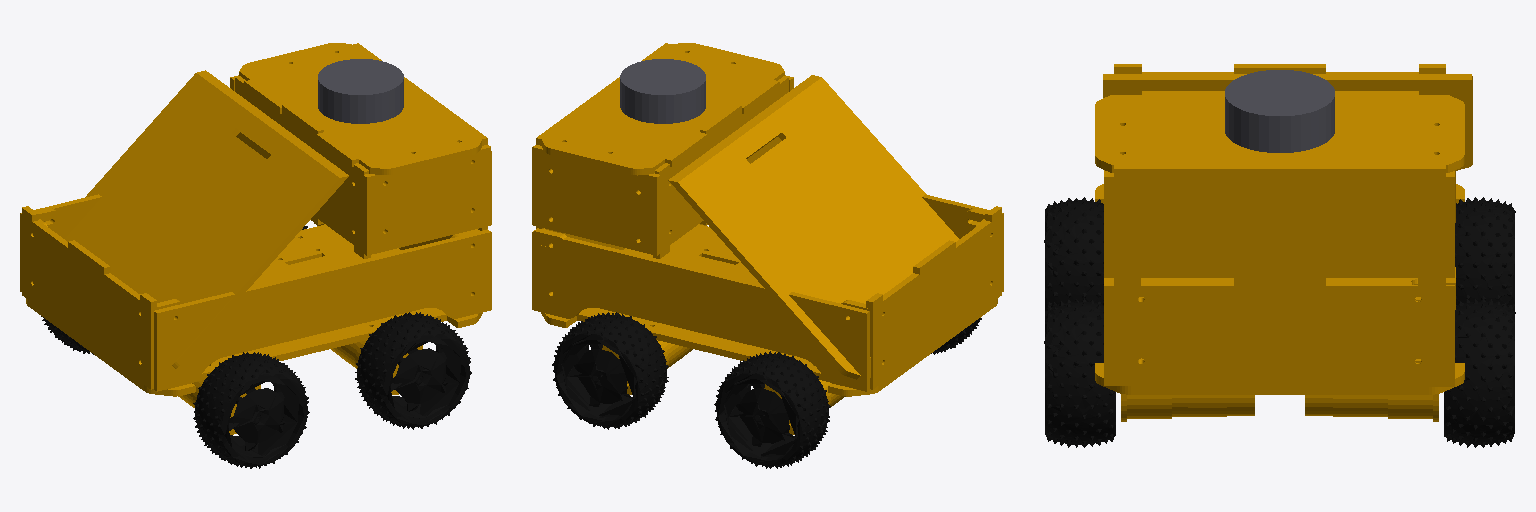
URDF robot description (cramped_robot):
<?xml version="1.0" ?>
<!-- =================================================================================== -->
<!-- |    This document was autogenerated by xacro from urdf/cramped_robot.urdf.xacro  | -->
<!-- |    EDITING THIS FILE BY HAND IS NOT RECOMMENDED                                 | -->
<!-- =================================================================================== -->
<!--
  cramped_robot — 4-wheel skid-steer mobile robot
  Generated from Main_Assembly.step (Onshape, STEP AP242) on 2026-09-23.
  Frame conventions (ROS REP-103): x forward, y left, z up.
  CAD -> URDF mapping: x_urdf = -y_cad, y_urdf = x_cad, z_urdf = z_cad  (the CAD front is -Y).
  base_link origin = centre of the BOTTOM face of the bottom chassis plate (the CAD origin).
  base_footprint sits on the ground plane, 0.0604 m below base_link.
  Design change vs. the STEP: the inclined "Middle Plane" is cut off at roof height (z = 0.135 m in base_link)
  so it cannot protrude into the lidar's field of view. Trim the physical plate the same way, or set
  TRIM_MIDDLE_PLANE_TO_ROOF = False in scripts/build_from_step.py to restore it.
  Links: base_footprint, base_link (chassis + brackets + 4 motor mounts + 4 gearmotors, rigid),
         4 wheel links (continuous joints), lidar_link (front-cabin roof), imu_link (lower-cabin floor).
  Mesh units: metres (pre-scaled at export). Visual meshes come straight from the STEP solids;
  collision uses analytic primitives derived from the same solids' bounding boxes.
  Mass: total_mass (2.0 kg, user estimate) is distributed in proportion to the CAD-derived link masses.
  CAD-derived masses (volume x density; inertia tensors scale with mass):
    chassis plates (5 mm)                     : acrylic, 1180 kg/m3   -> 1.179 kg incl. brackets
    L-brackets / motor mounts                 : aluminium, 2700 kg/m3
    4 x 37 mm gearmotor                        : ~0.194 kg each (typical 37D gearmotor)
    wheel (rubber tyre + ABS hub) + brass coupling + steel D-shaft : ~0.093 kg
  Motor limits assume a 37D 12 V gearmotor, ~100 rpm no-load, ~1 N·m stall at the wheel.
-->
<robot name="cramped_robot">
  <!-- m, base_link height above ground -->
  <!-- m, centre of the lower-cabin floor (bottom-plate top face) -->
  <!-- ============================== materials ============================== -->
  <material name="chassis_yellow">
    <color rgba="0.823 0.597 0.018 1.0"/>
  </material>
  <material name="tyre_black">
    <color rgba="0.10 0.10 0.10 1.0"/>
  </material>
  <material name="sensor_grey">
    <color rgba="0.35 0.35 0.38 1.0"/>
  </material>
  <!-- ============================== base ============================== -->
  <link name="base_footprint"/>
  <joint name="base_footprint_joint" type="fixed">
    <parent link="base_footprint"/>
    <child link="base_link"/>
    <origin rpy="0 0 0" xyz="0 0 0.0604"/>
  </joint>
  <link name="base_link">
    <visual>
      <origin rpy="0 0 0" xyz="0 0 0"/>
      <geometry>
        <mesh filename="package://cramped_robot_description/meshes/visual/base_link.stl"/>
      </geometry>
      <material name="chassis_yellow"/>
    </visual>
    <collision>
      <!-- upper side panel002 -->
      <origin rpy="0 0 0" xyz="0.08494 -0.09253 0.10002"/>
      <geometry>
        <box size="0.1 0.00507 0.06"/>
      </geometry>
    </collision>
    <collision>
      <!-- upper side panel002 -->
      <origin rpy="0 0 0" xyz="0.08506 0.09247 0.09998"/>
      <geometry>
        <box size="0.1 0.00507 0.06"/>
      </geometry>
    </collision>
    <collision>
      <!-- Front support 001 -->
      <origin rpy="0 0 0" xyz="0.1325 -0.00007 0.06751"/>
      <geometry>
        <box size="0.00511 0.18003 0.13502"/>
      </geometry>
    </collision>
    <collision>
      <!-- top plane -->
      <origin rpy="0 0 0" xyz="0.085 -0.00002 0.1325"/>
      <geometry>
        <box size="0.10009 0.20004 0.00504"/>
      </geometry>
    </collision>
    <collision>
      <!-- Rear Support002 -->
      <origin rpy="0 0 0" xyz="-0.1325 0.00009 0.03601"/>
      <geometry>
        <box size="0.00511 0.18002 0.07202"/>
      </geometry>
    </collision>
    <collision>
      <!-- Bottom chassis001 -->
      <origin rpy="0 0 0" xyz="-0 0 0.0025"/>
      <geometry>
        <box size="0.2701 0.20014 0.00504"/>
      </geometry>
    </collision>
    <collision>
      <!-- Rear Support002 -->
      <origin rpy="0 0 0" xyz="0.0385 -0 0.10099"/>
      <geometry>
        <box size="0.00511 0.18002 0.07202"/>
      </geometry>
    </collision>
    <collision>
      <!-- Lower Side Panel -->
      <origin rpy="0 0 0" xyz="0.00094 -0.09249 0.03502"/>
      <geometry>
        <box size="0.268 0.00518 0.06"/>
      </geometry>
    </collision>
    <collision>
      <!-- Lower Side Panel -->
      <origin rpy="0 0 0" xyz="0.00106 0.09251 0.03498"/>
      <geometry>
        <box size="0.268 0.00518 0.06"/>
      </geometry>
    </collision>
    <collision>
      <!-- Middle Plane (inclined plate) -->
      <origin rpy="0 -0.69814 0" xyz="-0.05609 0.00427 0.07373"/>
      <geometry>
        <box size="0.19565 0.20006 0.00492"/>
      </geometry>
    </collision>
    <collision>
      <!-- front_left motor mount -->
      <origin rpy="0 0 0" xyz="0.06501 0.0644 -0.0235"/>
      <geometry>
        <box size="0.04032 0.04337 0.04698"/>
      </geometry>
    </collision>
    <collision>
      <!-- front_left gearmotor -->
      <origin rpy="0 0 0" xyz="0.06504 0.04812 -0.02681"/>
      <geometry>
        <box size="0.03701 0.06902 0.03701"/>
      </geometry>
    </collision>
    <collision>
      <!-- front_right motor mount -->
      <origin rpy="0 0 0" xyz="0.06499 -0.06449 -0.02347"/>
      <geometry>
        <box size="0.04032 0.04338 0.04696"/>
      </geometry>
    </collision>
    <collision>
      <!-- front_right gearmotor -->
      <origin rpy="0 0 0" xyz="0.06496 -0.04822 -0.02678"/>
      <geometry>
        <box size="0.03701 0.06902 0.03701"/>
      </geometry>
    </collision>
    <collision>
      <!-- rear_left motor mount -->
      <origin rpy="0 0 0" xyz="-0.06499 0.06449 -0.0235"/>
      <geometry>
        <box size="0.04032 0.04337 0.04698"/>
      </geometry>
    </collision>
    <collision>
      <!-- rear_left gearmotor -->
      <origin rpy="0 0 0" xyz="-0.06496 0.04821 -0.02681"/>
      <geometry>
        <box size="0.03701 0.06902 0.03701"/>
      </geometry>
    </collision>
    <collision>
      <!-- rear_right motor mount -->
      <origin rpy="0 0 0" xyz="-0.06501 -0.06441 -0.02347"/>
      <geometry>
        <box size="0.04032 0.04338 0.04696"/>
      </geometry>
    </collision>
    <collision>
      <!-- rear_right gearmotor -->
      <origin rpy="0 0 0" xyz="-0.06504 -0.04814 -0.02678"/>
      <geometry>
        <box size="0.03701 0.06902 0.03701"/>
      </geometry>
    </collision>
    <!-- inertia given per kg (from CAD geometry, uniform density per part); scales with the chosen mass -->
    <inertial>
      <origin rpy="0 0 0" xyz="0.006922 0.000498 0.021751"/>
      <mass value="1.5763841029175285"/>
      <inertia ixx="0.01050024721801057" ixy="4.500576613829544e-05" ixz="-0.001594875088444751" iyy="0.01508367858028946" iyz="-4.097022283482657e-05" izz="0.016545081226740185"/>
    </inertial>
  </link>
  <link name="front_left_wheel_link">
    <visual>
      <origin rpy="0 0 0" xyz="0 0 0"/>
      <geometry>
        <mesh filename="package://cramped_robot_description/meshes/visual/wheel.stl"/>
      </geometry>
      <material name="tyre_black"/>
    </visual>
    <collision>
      <origin rpy="1.570796326794895 0 0" xyz="0 0 0"/>
      <geometry>
        <cylinder length="0.0384" radius="0.0406"/>
      </geometry>
    </collision>
    <!-- inertia given per kg (from CAD geometry, uniform density per part); scales with the chosen mass -->
    <inertial>
      <origin rpy="0 0 0" xyz="-7e-06 2.7e-05 1e-06"/>
      <mass value="0.07144498047323686"/>
      <inertia ixx="3.908469101768896e-05" ixy="6.430048242591317e-09" ixz="7.144498047323686e-10" iyy="6.371249023661843e-05" iyz="-5.001148633126581e-09" izz="3.9081833218470024e-05"/>
    </inertial>
  </link>
  <joint name="front_left_wheel_joint" type="continuous">
    <parent link="base_link"/>
    <child link="front_left_wheel_link"/>
    <origin rpy="0 0 0" xyz="0.065 0.108 -0.0198"/>
    <axis xyz="0 1 0"/>
    <limit effort="1.0" velocity="10.5"/>
    <dynamics damping="0.01" friction="0.05"/>
  </joint>
  <link name="front_right_wheel_link">
    <visual>
      <origin rpy="0 0 3.14159265358979" xyz="0 0 0"/>
      <geometry>
        <mesh filename="package://cramped_robot_description/meshes/visual/wheel.stl"/>
      </geometry>
      <material name="tyre_black"/>
    </visual>
    <collision>
      <origin rpy="1.570796326794895 0 0" xyz="0 0 0"/>
      <geometry>
        <cylinder length="0.0384" radius="0.0406"/>
      </geometry>
    </collision>
    <!-- inertia given per kg (from CAD geometry, uniform density per part); scales with the chosen mass -->
    <inertial>
      <origin rpy="0 0 0" xyz="7e-06 -2.7e-05 1e-06"/>
      <mass value="0.07144498047323686"/>
      <inertia ixx="3.908469101768896e-05" ixy="6.430048242591317e-09" ixz="-7.144498047323686e-10" iyy="6.371249023661843e-05" iyz="5.001148633126581e-09" izz="3.9081833218470024e-05"/>
    </inertial>
  </link>
  <joint name="front_right_wheel_joint" type="continuous">
    <parent link="base_link"/>
    <child link="front_right_wheel_link"/>
    <origin rpy="0 0 0" xyz="0.065 -0.108 -0.0198"/>
    <axis xyz="0 1 0"/>
    <limit effort="1.0" velocity="10.5"/>
    <dynamics damping="0.01" friction="0.05"/>
  </joint>
  <link name="rear_left_wheel_link">
    <visual>
      <origin rpy="0 0 0" xyz="0 0 0"/>
      <geometry>
        <mesh filename="package://cramped_robot_description/meshes/visual/wheel.stl"/>
      </geometry>
      <material name="tyre_black"/>
    </visual>
    <collision>
      <origin rpy="1.570796326794895 0 0" xyz="0 0 0"/>
      <geometry>
        <cylinder length="0.0384" radius="0.0406"/>
      </geometry>
    </collision>
    <!-- inertia given per kg (from CAD geometry, uniform density per part); scales with the chosen mass -->
    <inertial>
      <origin rpy="0 0 0" xyz="-7e-06 2.7e-05 1e-06"/>
      <mass value="0.07144498047323686"/>
      <inertia ixx="3.908469101768896e-05" ixy="6.430048242591317e-09" ixz="7.144498047323686e-10" iyy="6.371249023661843e-05" iyz="-5.001148633126581e-09" izz="3.9081833218470024e-05"/>
    </inertial>
  </link>
  <joint name="rear_left_wheel_joint" type="continuous">
    <parent link="base_link"/>
    <child link="rear_left_wheel_link"/>
    <origin rpy="0 0 0" xyz="-0.065 0.108 -0.0198"/>
    <axis xyz="0 1 0"/>
    <limit effort="1.0" velocity="10.5"/>
    <dynamics damping="0.01" friction="0.05"/>
  </joint>
  <link name="rear_right_wheel_link">
    <visual>
      <origin rpy="0 0 3.14159265358979" xyz="0 0 0"/>
      <geometry>
        <mesh filename="package://cramped_robot_description/meshes/visual/wheel.stl"/>
      </geometry>
      <material name="tyre_black"/>
    </visual>
    <collision>
      <origin rpy="1.570796326794895 0 0" xyz="0 0 0"/>
      <geometry>
        <cylinder length="0.0384" radius="0.0406"/>
      </geometry>
    </collision>
    <!-- inertia given per kg (from CAD geometry, uniform density per part); scales with the chosen mass -->
    <inertial>
      <origin rpy="0 0 0" xyz="7e-06 -2.7e-05 1e-06"/>
      <mass value="0.07144498047323686"/>
      <inertia ixx="3.908469101768896e-05" ixy="6.430048242591317e-09" ixz="-7.144498047323686e-10" iyy="6.371249023661843e-05" iyz="5.001148633126581e-09" izz="3.9081833218470024e-05"/>
    </inertial>
  </link>
  <joint name="rear_right_wheel_joint" type="continuous">
    <parent link="base_link"/>
    <child link="rear_right_wheel_link"/>
    <origin rpy="0 0 0" xyz="-0.065 -0.108 -0.0198"/>
    <axis xyz="0 1 0"/>
    <limit effort="1.0" velocity="10.5"/>
    <dynamics damping="0.01" friction="0.05"/>
  </joint>
  <link name="lidar_link">
    <visual>
      <origin rpy="0 0 0" xyz="0 0 -0.014"/>
      <geometry>
        <cylinder length="0.022000000000000002" radius="0.03"/>
      </geometry>
      <material name="sensor_grey"/>
    </visual>
    <collision>
      <origin rpy="0 0 0" xyz="0 0 -0.014"/>
      <geometry>
        <cylinder length="0.022000000000000002" radius="0.03"/>
      </geometry>
    </collision>
    <inertial>
      <mass value="0.13017842101232868"/>
      <inertia ixx="4.25791918727825e-05" ixy="0" ixz="0" iyy="4.25791918727825e-05" iyz="0" izz="5.858028945554791e-05"/>
    </inertial>
  </link>
  <joint name="lidar_joint" type="fixed">
    <parent link="base_link"/>
    <child link="lidar_link"/>
    <origin rpy="0 0 0" xyz="0.085 0 0.16"/>
  </joint>
  <!-- ============================== IMU: floor of the lower cabin ============================== -->
  <link name="imu_link">
    <visual>
      <origin rpy="0 0 0" xyz="0 0 0.0025"/>
      <geometry>
        <box size="0.02 0.02 0.005"/>
      </geometry>
      <material name="sensor_grey"/>
    </visual>
    <inertial>
      <mass value="0.0076575541771958045"/>
      <inertia ixx="2.7120504377568474e-07" ixy="0" ixz="0" iyy="2.7120504377568474e-07" iyz="0" izz="5.105036118130536e-07"/>
    </inertial>
  </link>
  <joint name="imu_joint" type="fixed">
    <parent link="base_link"/>
    <child link="imu_link"/>
    <origin rpy="0 0 0" xyz="0 0 0.005"/>
  </joint>
</robot>

--- What the picture shows (computed from the rendered views, not written in the file) ---
3 views of the same robot in one strip: view 1: azimuth 30°, elevation 25°; view 2: azimuth 150°, elevation 25°; view 3: azimuth 270°, elevation 25° (orthographic).
Robot: cramped_robot — 8 links, 7 joints (4 continuous, 3 fixed); root link base_footprint; default pose: every joint at zero.
Links seen in each view (by area): view 1: base_link, front_right_wheel_link, rear_right_wheel_link, lidar_link; view 2: base_link, front_left_wheel_link, rear_left_wheel_link, lidar_link; view 3: base_link, front_left_wheel_link, front_right_wheel_link, lidar_link, rear_left_wheel_link, rear_right_wheel_link.
Boxes of the visible links, x1=… form: base_link: x1=20, y1=43, x2=491, y2=434; front_right_wheel_link: x1=355, y1=312, x2=471, y2=429; rear_right_wheel_link: x1=193, y1=352, x2=309, y2=468; lidar_link: x1=318, y1=59, x2=403, y2=123; base_link: x1=532, y1=43, x2=1003, y2=434; front_left_wheel_link: x1=552, y1=312, x2=668, y2=429; rear_left_wheel_link: x1=714, y1=351, x2=830, y2=468; lidar_link: x1=620, y1=59, x2=705, y2=123; base_link: x1=1095, y1=64, x2=1472, y2=421; front_left_wheel_link: x1=1444, y1=298, x2=1515, y2=447; front_right_wheel_link: x1=1044, y1=298, x2=1115, y2=447; lidar_link: x1=1225, y1=70, x2=1334, y2=152; rear_left_wheel_link: x1=1455, y1=197, x2=1515, y2=310; rear_right_wheel_link: x1=1044, y1=197, x2=1103, y2=310.
Bounding box of the posed robot: 0.2701 × 0.2551 × 0.2174 m (x, y, z).
Meshes: 2 distinct files referenced, 5 mesh visuals loaded (2 binary STL).
